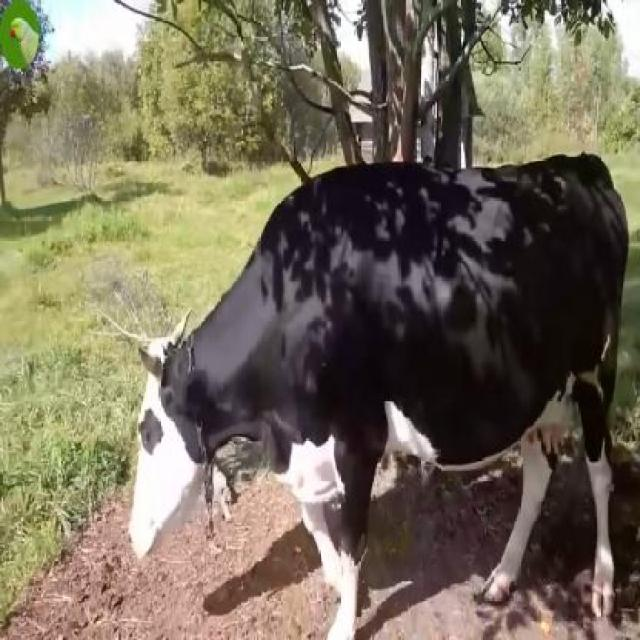Cow: (128, 150, 629, 638)
